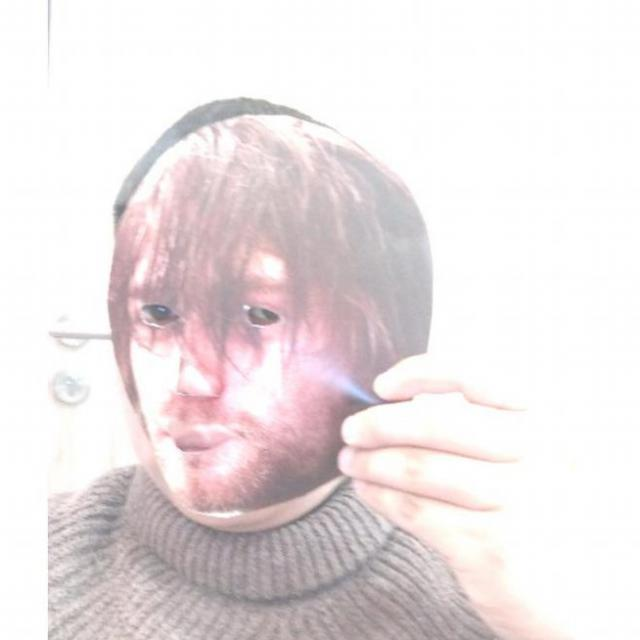mask: (105, 113, 453, 514)
